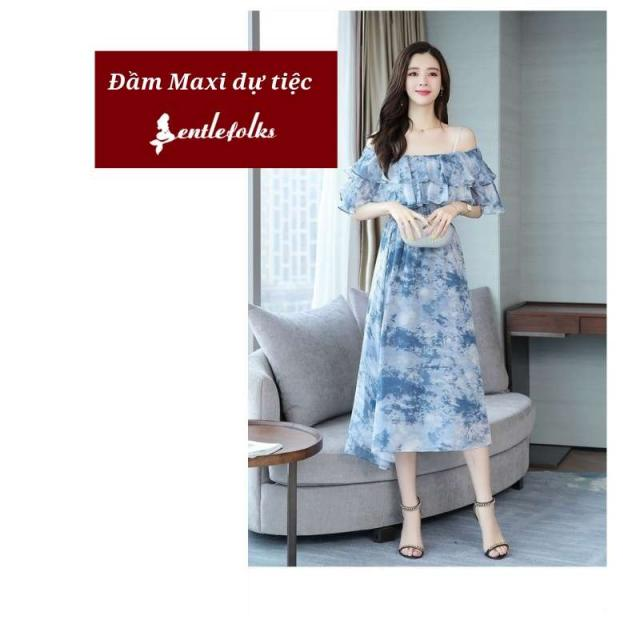clothes: (339, 131, 512, 470)
